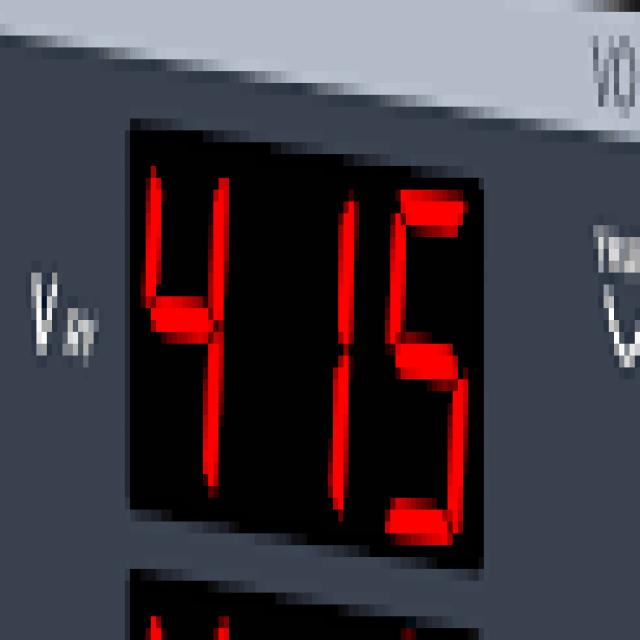1: (309, 169, 375, 531)
4: (136, 141, 262, 514)
5: (387, 175, 482, 556)
screen: (122, 111, 490, 586)
